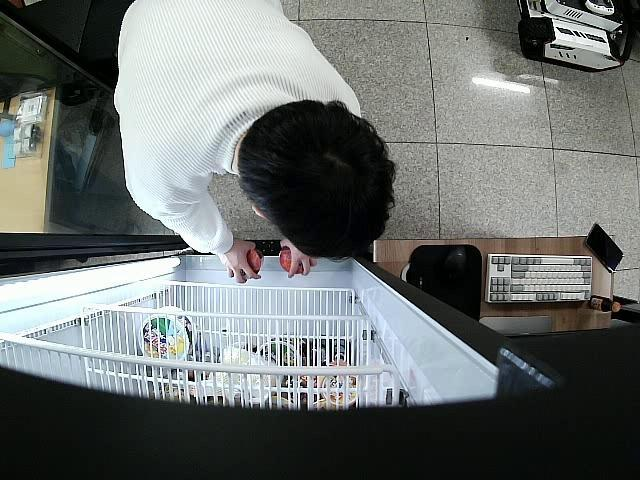02_shinRamen_S: (280, 245, 313, 277), (231, 252, 263, 283)
